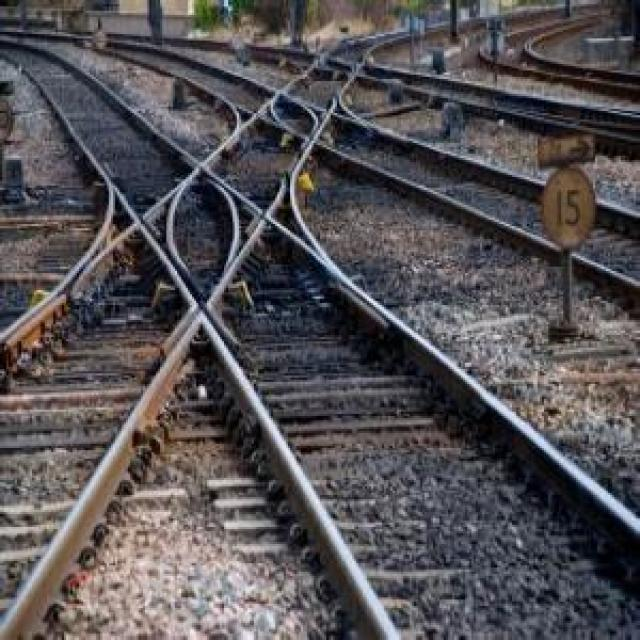rail: (3, 2, 639, 638)
